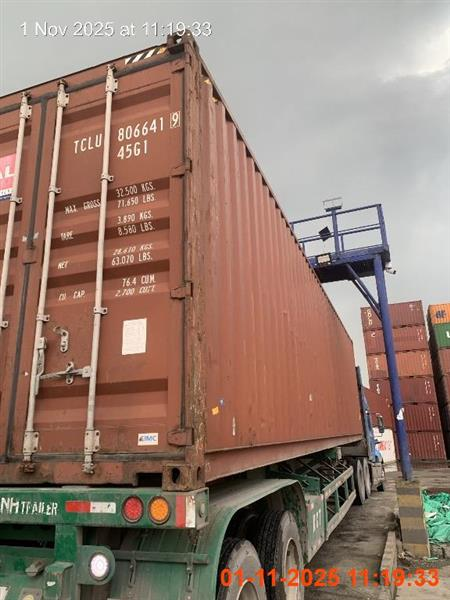broken: (1, 29, 388, 599)
